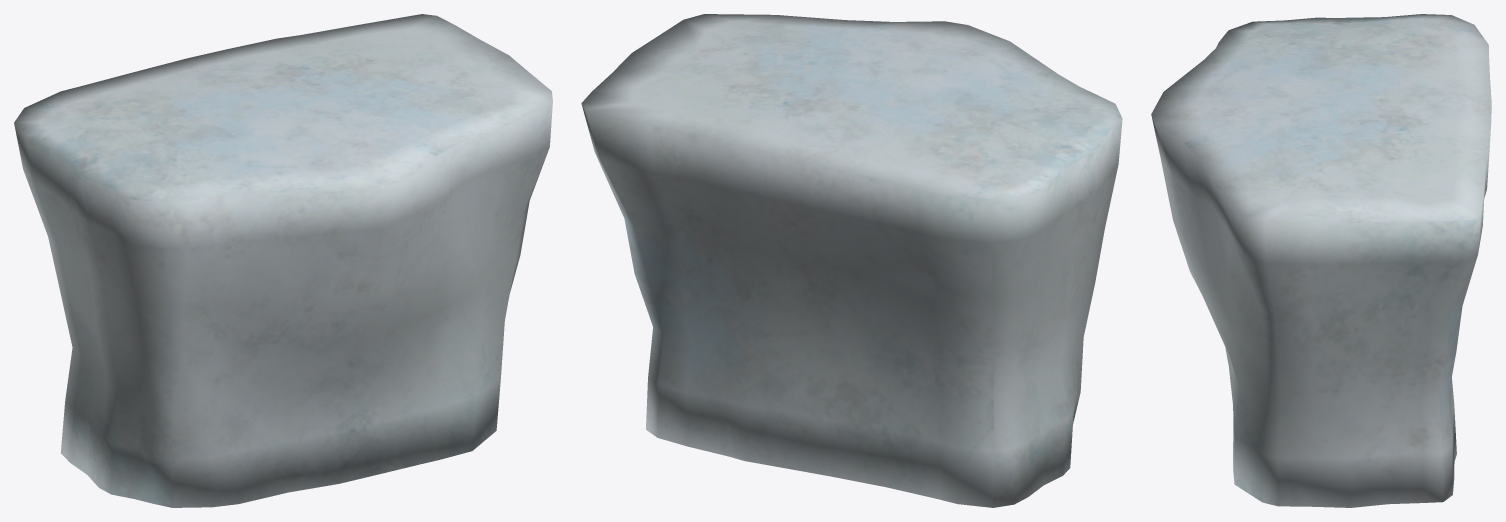
Rendered from P_RockDesert_Shelf10.obj.
3 views of the same model, side by side, from view 1: azimuth 30°, elevation 25°; view 2: azimuth 150°, elevation 25°; view 3: azimuth 270°, elevation 25° (orthographic). The views are drawn at different scales.
Size of the model in its own units: 33.92 by 24.72 by 23.61.
